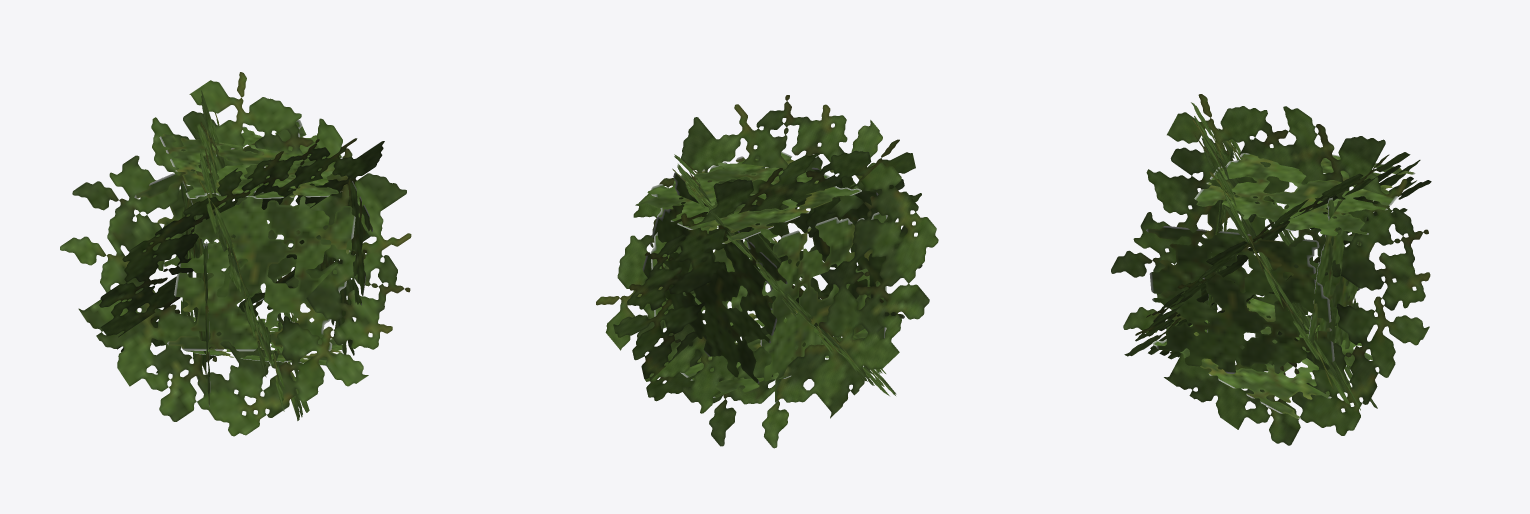
File: beech_leaves.obj
3 renders of one model, left to right at view 1: azimuth 30°, elevation 25°; view 2: azimuth 150°, elevation 25°; view 3: azimuth 270°, elevation 25°, orthographic. The views are drawn at different scales.
Visible parts, largest first — view 1: west, south, east, top, north, bottom; view 2: south, east, north, west, top, bottom; view 3: east, south, top, west, bottom, north.
Part boxes in pixels (x1=…): west: x1=60, y1=72, x2=411, y2=436; south: x1=99, y1=138, x2=384, y2=373; east: x1=134, y1=90, x2=309, y2=420; top: x1=159, y1=126, x2=338, y2=198; north: x1=180, y1=181, x2=210, y2=406; bottom: x1=185, y1=317, x2=347, y2=366; south: x1=596, y1=95, x2=938, y2=448; east: x1=613, y1=139, x2=922, y2=403; north: x1=760, y1=212, x2=887, y2=402; west: x1=672, y1=154, x2=904, y2=395; top: x1=635, y1=151, x2=861, y2=243; bottom: x1=680, y1=308, x2=867, y2=397; east: x1=1111, y1=94, x2=1430, y2=445; south: x1=1146, y1=102, x2=1377, y2=410; top: x1=1194, y1=139, x2=1415, y2=236; west: x1=1124, y1=140, x2=1431, y2=360; bottom: x1=1152, y1=297, x2=1372, y2=419; north: x1=1202, y1=172, x2=1359, y2=337.
Size of the model in its own units: 2.25 by 1.98 by 2.27.
